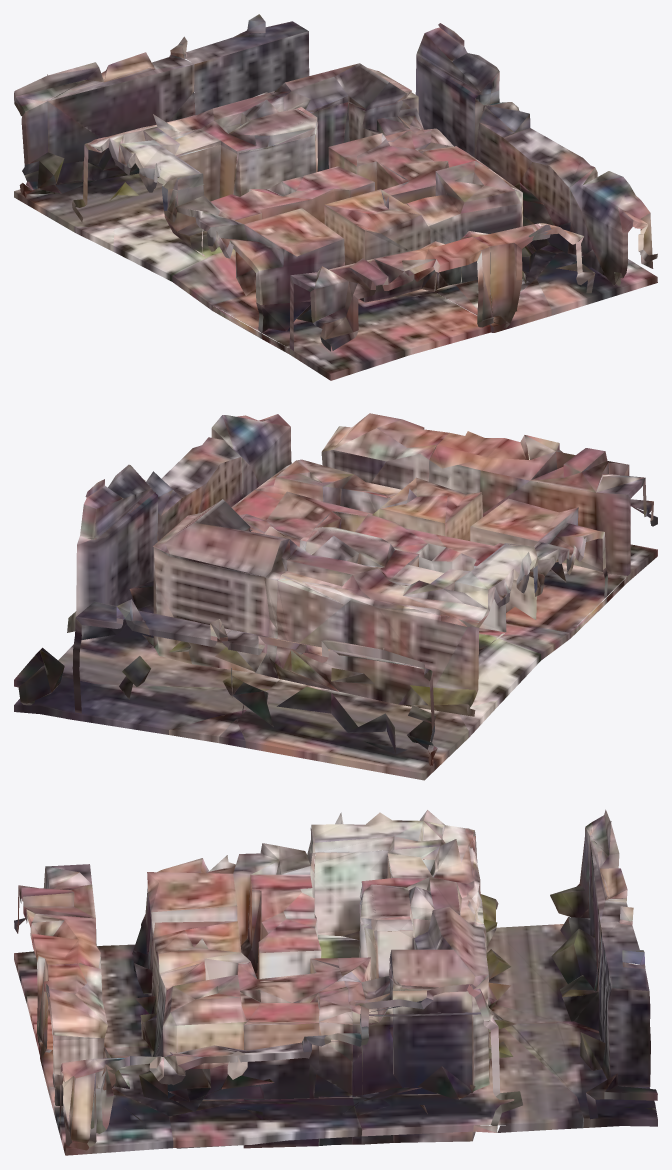
3 renders of one model, top to bottom at view 1: azimuth 30°, elevation 25°; view 2: azimuth 150°, elevation 25°; view 3: azimuth 270°, elevation 25°, orthographic. The views are drawn at different scales.
Visible parts, largest first — view 1: Mesh_0; view 2: Mesh_0; view 3: Mesh_0.
Part boxes in pixels (<box>): Mesh_0: <box>14,14,657,380</box>; Mesh_0: <box>14,413,657,780</box>; Mesh_0: <box>14,809,657,1155</box>.
Size of the model in its own units: 133 by 54.13 by 165.
Materials: 1 (1 with a texture image).
